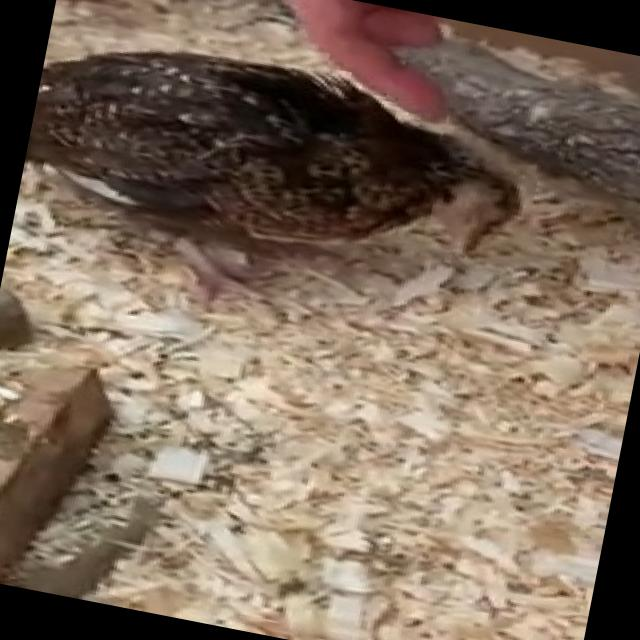newcastle: (13, 13, 570, 323)
